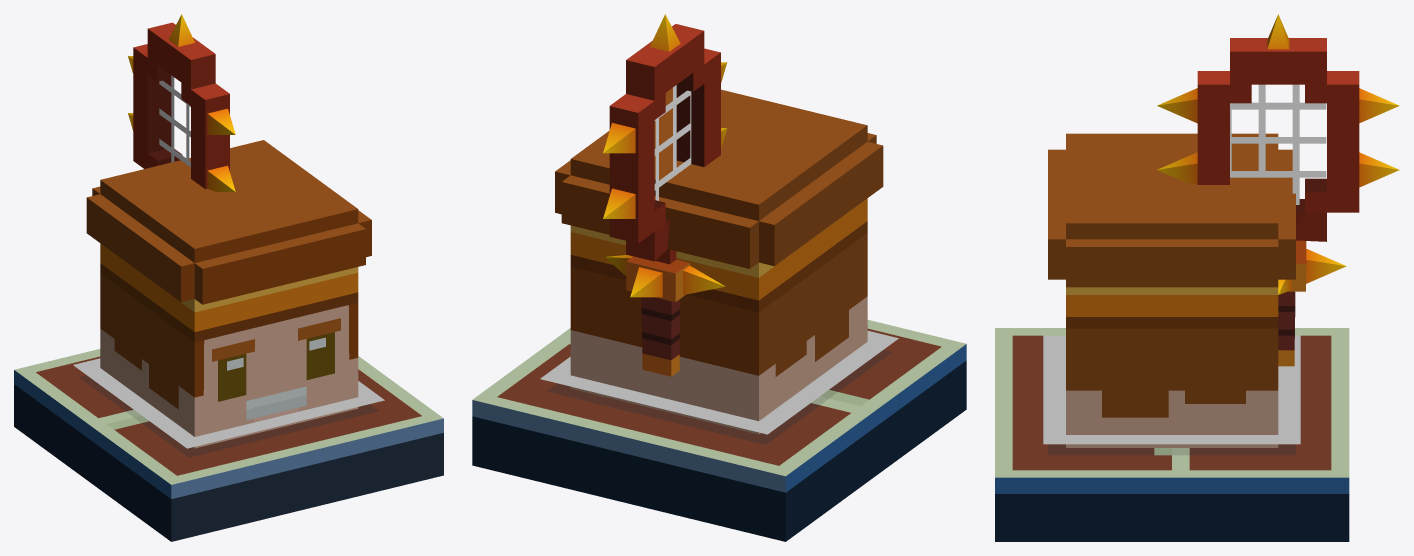
Rendered from Tower_Tennis_L6.fbx.
The picture shows the model from 3 angles, left to right: view 1: azimuth 30°, elevation 25°; view 2: azimuth 150°, elevation 25°; view 3: azimuth 270°, elevation 25°; orthographic projection. The views are drawn at different scales.
Parts seen in each view (by area): view 1: Body, Base, Weapon, shadow, Net, pCube6, pCube5; view 2: Body, Base, Weapon, shadow, Net, pCube8, pCube3, pCube9, pCube2, pCube7; view 3: Body, Base, Weapon, shadow, Net, pCube6, pCube8, pCube9, pCube3, pCube5, pCube7.
Part boxes in pixels (<box>): Body: <box>86,140,371,448</box>; Base: <box>14,349,443,541</box>; Weapon: <box>133,22,229,189</box>; shadow: <box>73,358,384,448</box>; Net: <box>159,75,190,167</box>; pCube6: <box>207,108,235,134</box>; pCube5: <box>207,165,235,191</box>; Body: <box>555,88,883,434</box>; Base: <box>472,320,966,541</box>; Weapon: <box>609,24,720,376</box>; shadow: <box>540,331,898,434</box>; Net: <box>654,85,691,200</box>; pCube8: <box>603,123,635,153</box>; pCube3: <box>630,267,662,297</box>; pCube9: <box>603,188,635,218</box>; pCube2: <box>683,265,725,294</box>; pCube7: <box>650,14,680,51</box>; Body: <box>1048,133,1295,447</box>; Base: <box>995,328,1349,541</box>; Weapon: <box>1197,38,1359,366</box>; shadow: <box>1043,335,1300,444</box>; Net: <box>1230,84,1326,204</box>; pCube6: <box>1157,88,1197,123</box>; pCube8: <box>1359,88,1399,123</box>; pCube9: <box>1359,152,1399,187</box>; pCube3: <box>1306,249,1346,283</box>; pCube5: <box>1157,152,1197,183</box>; pCube7: <box>1267,14,1289,49</box>.
Size of the model in its own units: 100 by 141 by 114.
